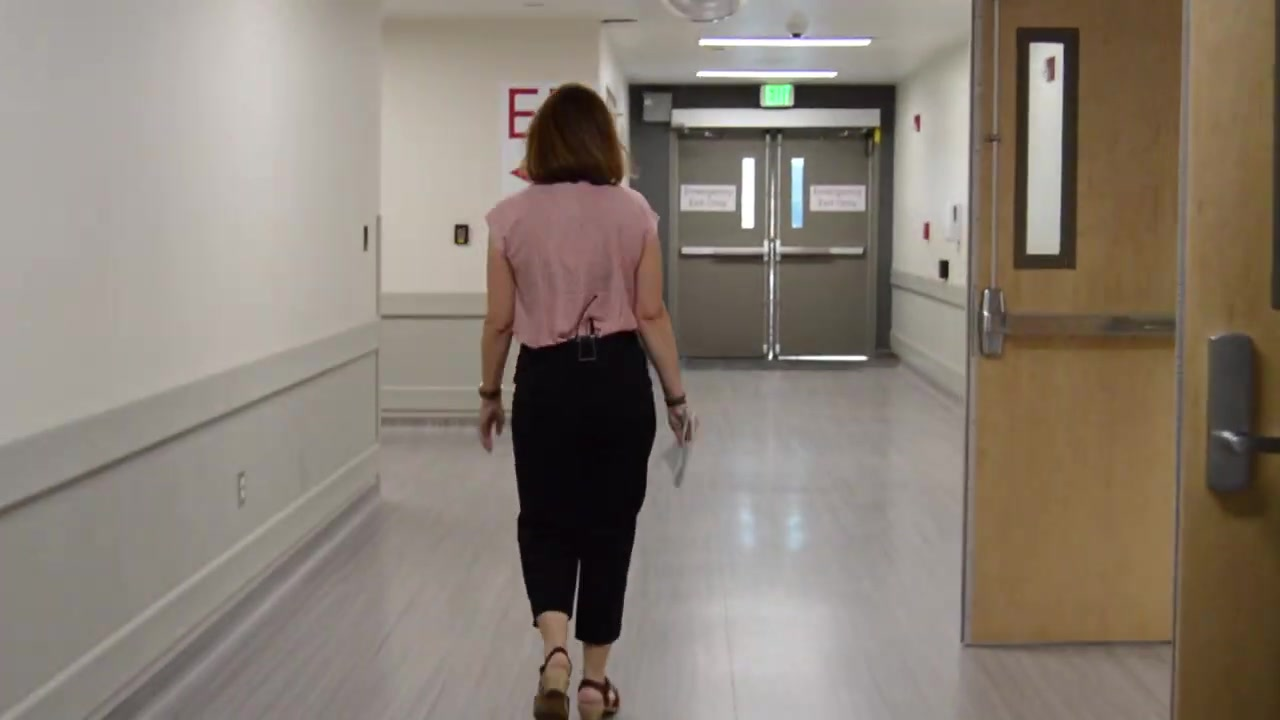dispenser: (945, 201, 964, 241)
door_handle: (1197, 306, 1280, 507)
person: (478, 83, 700, 720)
push_latch: (978, 284, 1176, 360), (681, 236, 771, 266), (777, 235, 863, 265)
